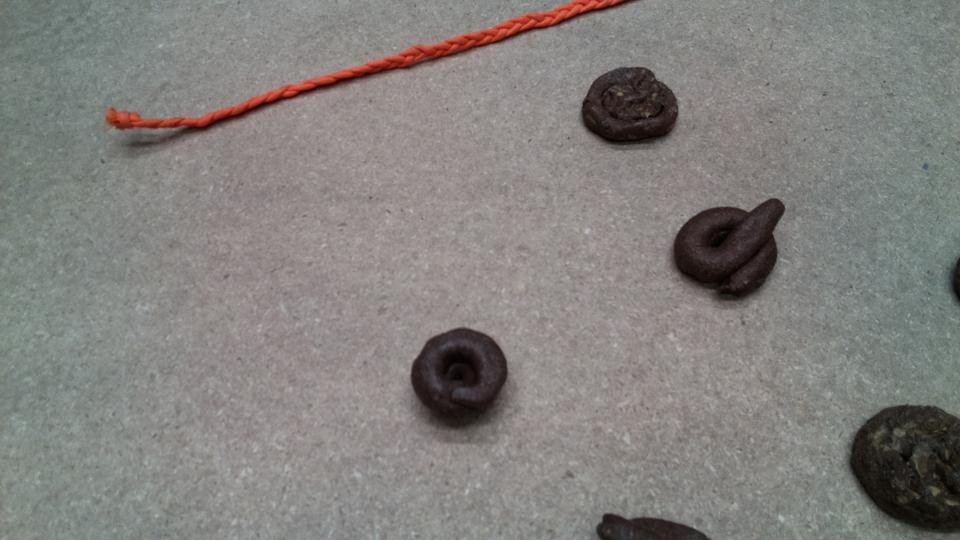poop: (848, 399, 960, 534), (668, 196, 790, 304), (405, 324, 510, 428), (580, 63, 685, 148), (595, 511, 718, 540)
rope: (100, 1, 606, 144)
